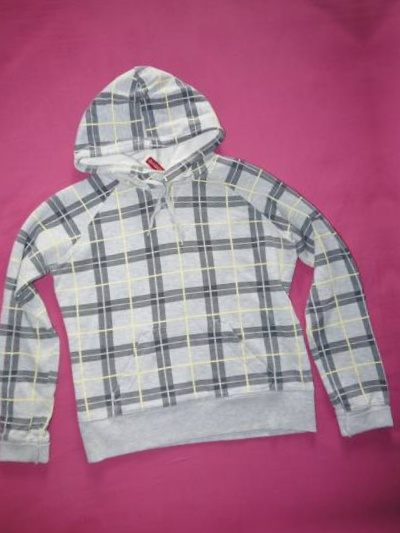Hoodie: (0, 44, 399, 503), (377, 0, 400, 454)
